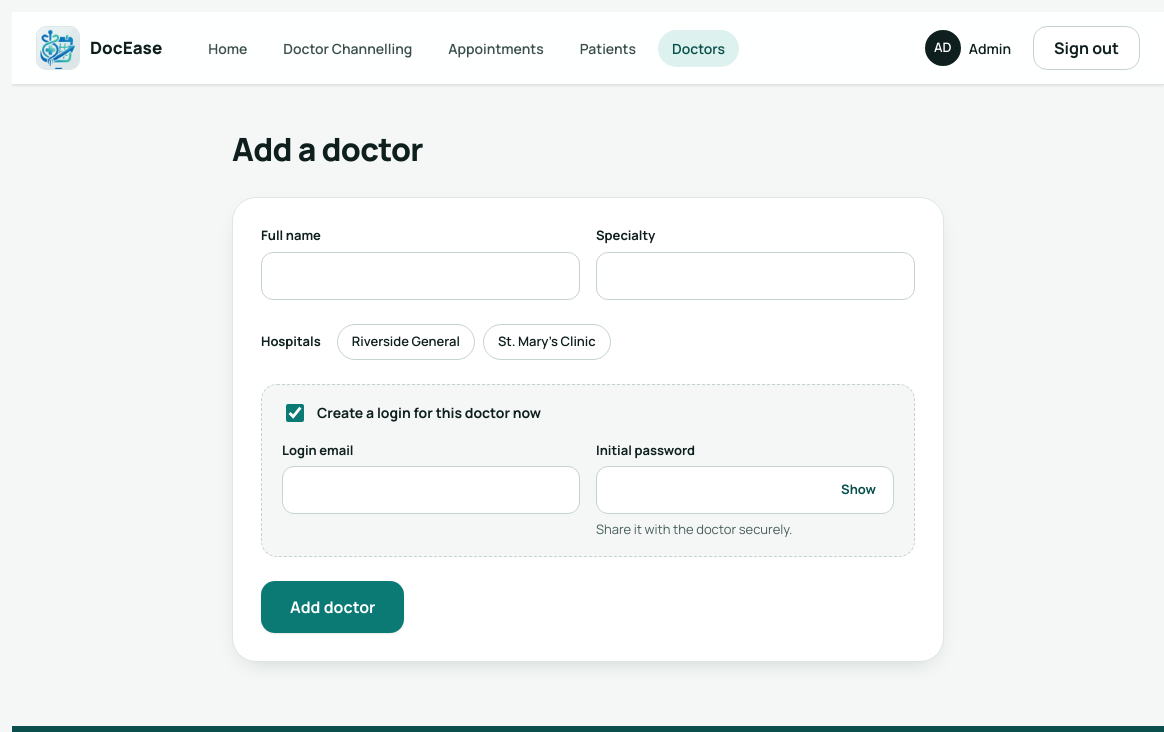
Test case: add a doctor › checks the form before sending anything
Click the button "Add doctor".
click(333, 606)  # box x1=261 y1=580 x2=404 y2=632
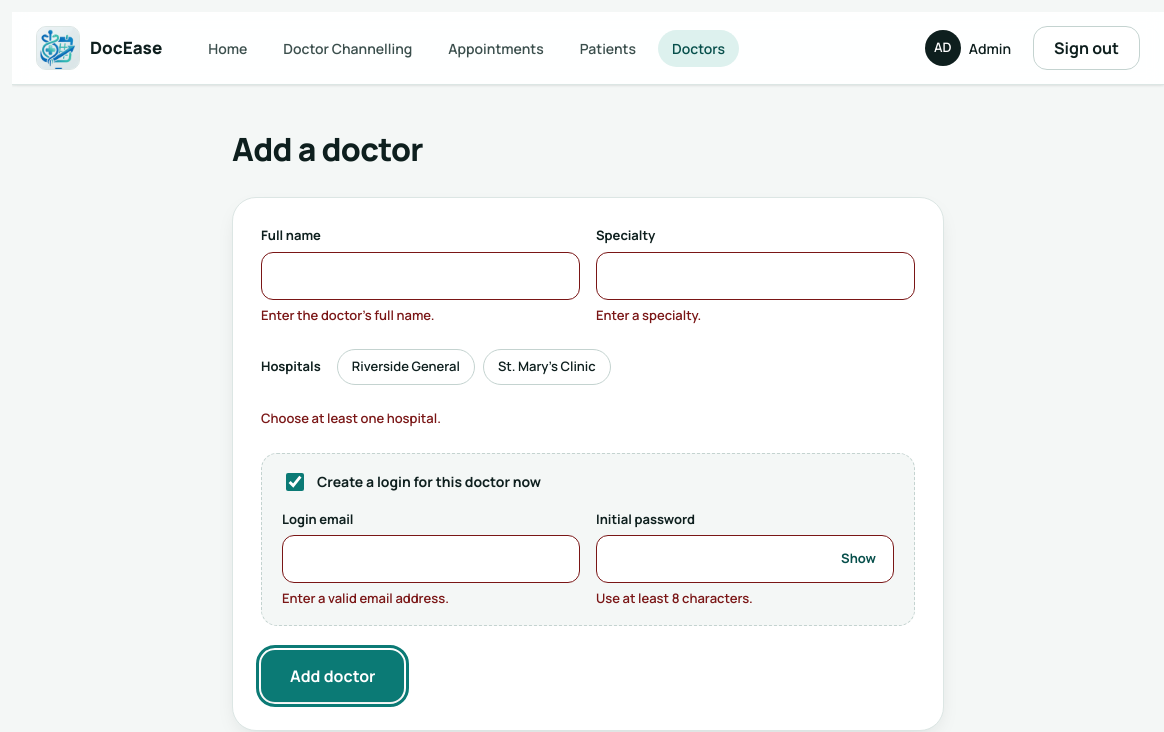
Result: the text "Enter the doctor’s full name." is shown at x1=261 y1=306 x2=434 y2=324
Result: the text "Enter a specialty." is shown at x1=596 y1=306 x2=701 y2=324
Result: the text "Choose at least one hospital." is shown at x1=261 y1=409 x2=441 y2=427
